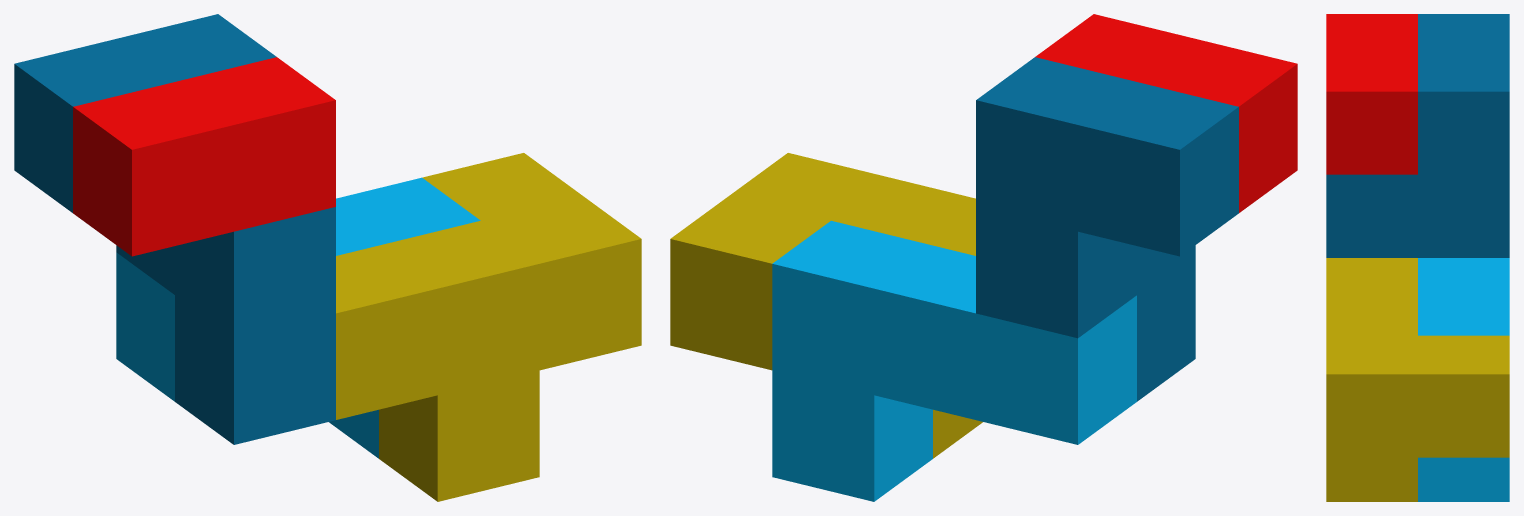
3 renders of one model, left to right at view 1: azimuth 30°, elevation 25°; view 2: azimuth 150°, elevation 25°; view 3: azimuth 270°, elevation 25°, orthographic. The views are drawn at different scales.
Visible parts, largest first — view 1: mergedBlocks(Clone); view 2: mergedBlocks(Clone); view 3: mergedBlocks(Clone).
Boxes of the visible parts, left/top/right/bottom form: mergedBlocks(Clone): left=14, top=14, right=641, bottom=501; mergedBlocks(Clone): left=670, top=14, right=1297, bottom=501; mergedBlocks(Clone): left=1326, top=14, right=1509, bottom=501.
Bounding box in the file's own units: 5 × 4 × 2.
Materials: 4 (4 with a texture image).
